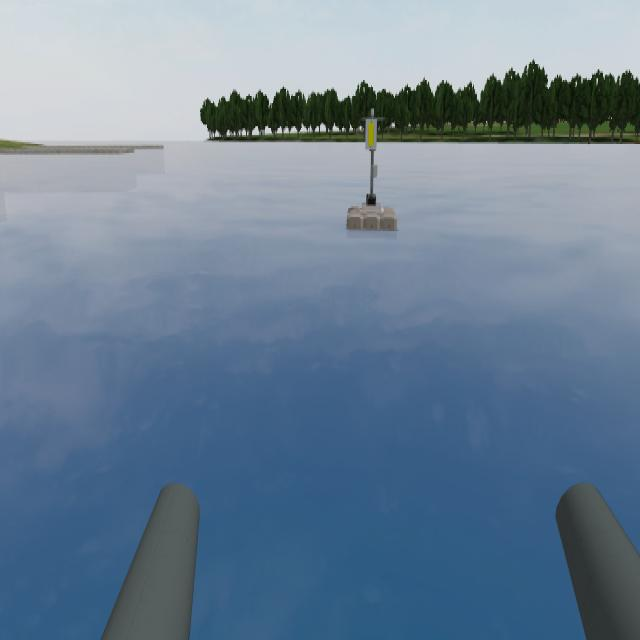yellow_pole: (361, 108, 388, 155)
